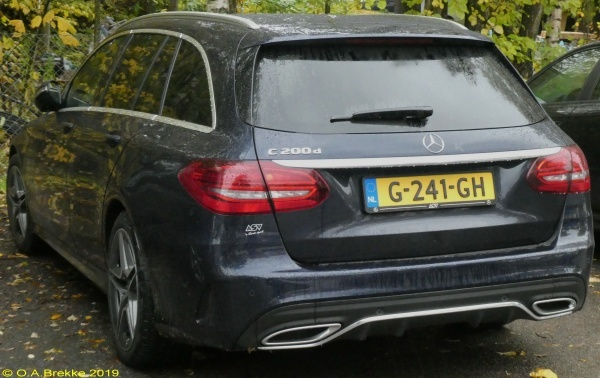number_plate: (360, 171, 500, 206)
